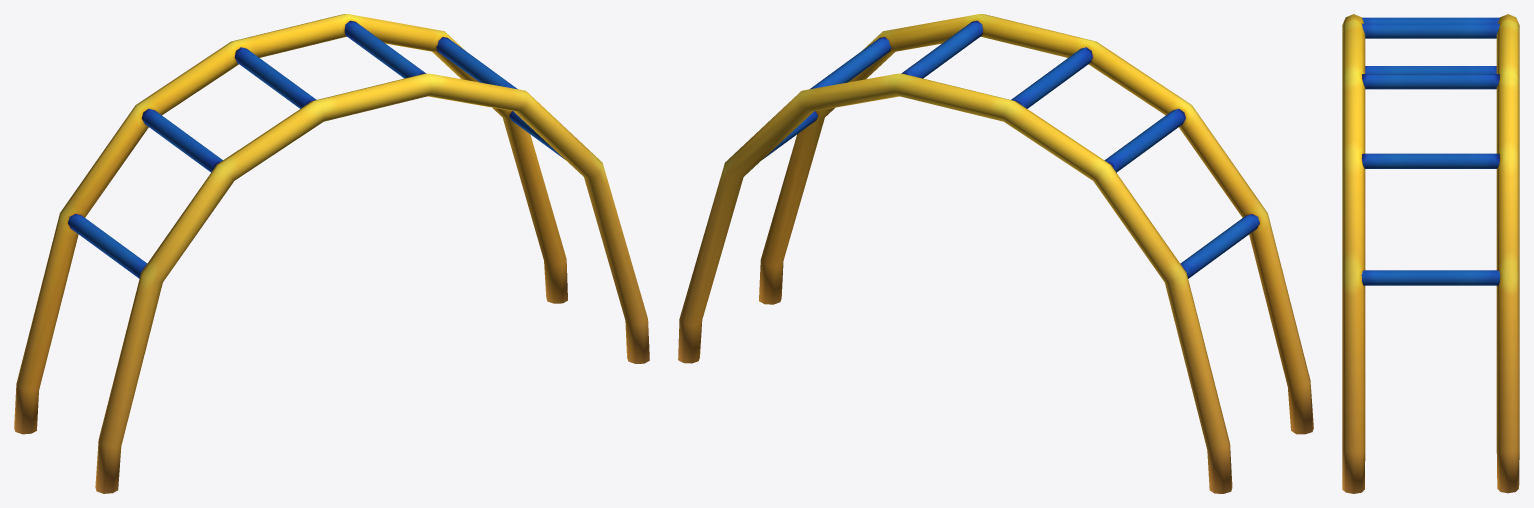
File: SE_Climber_02.fbx
The picture shows the model from 3 angles, left to right: view 1: azimuth 30°, elevation 25°; view 2: azimuth 150°, elevation 25°; view 3: azimuth 270°, elevation 25°; orthographic projection. The views are drawn at different scales.
Visible parts, largest first — view 1: SE_Climber_02; view 2: SE_Climber_02; view 3: SE_Climber_02.
Boxes of the visible parts, x1=… form: SE_Climber_02: x1=14, y1=14, x2=649, y2=493; SE_Climber_02: x1=678, y1=14, x2=1313, y2=493; SE_Climber_02: x1=1342, y1=14, x2=1519, y2=493.
Size of the model in its own units: 8.95 by 5.22 by 2.62.
